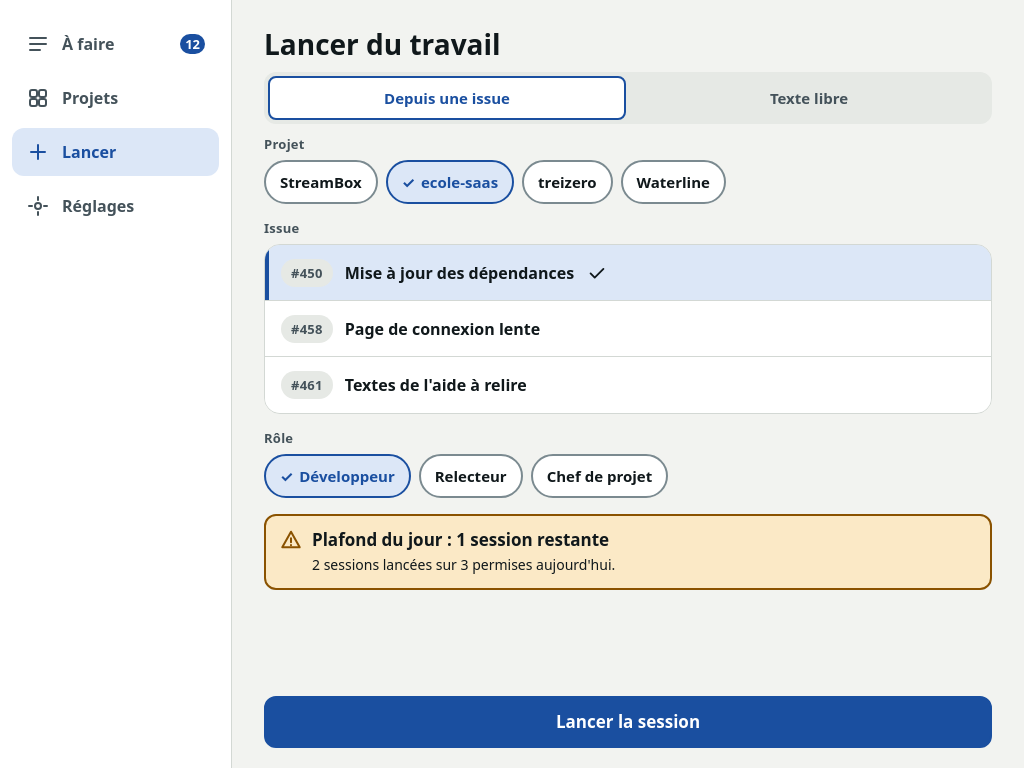
Test: Lancer du travail › projet sans issue en file : invite à passer en texte libre
The width and height of the screenshot is (1024, 768).
Click the button "StreamBox" at (321, 182), box [264, 160, 378, 204]
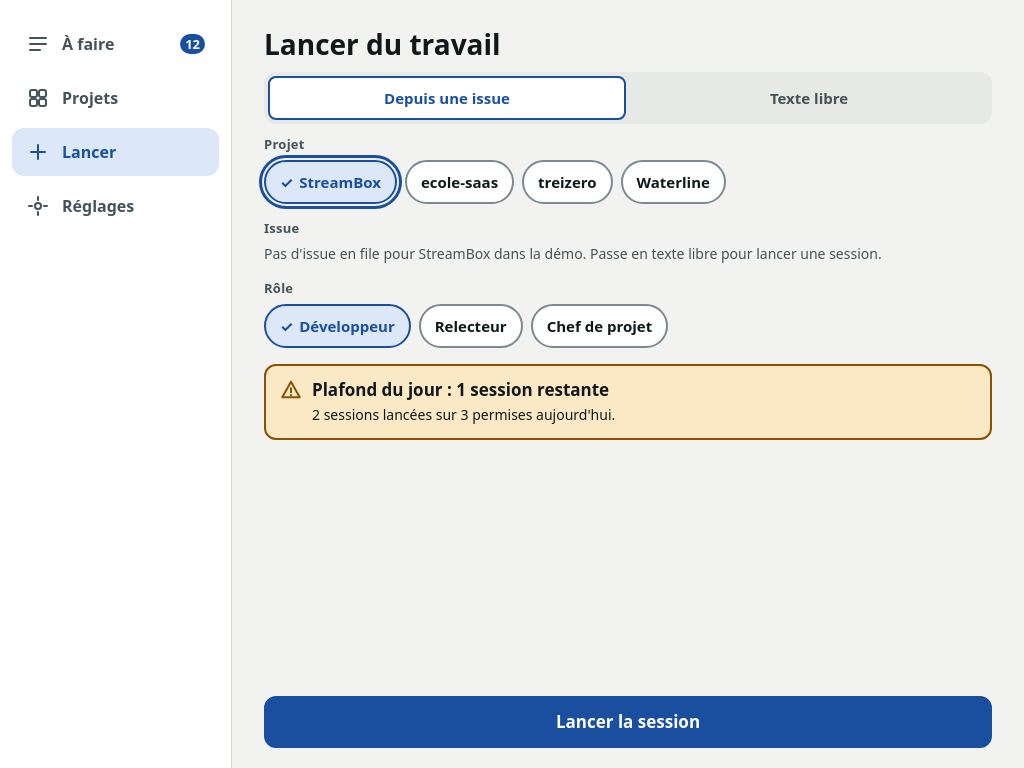
Check: the text "Pas d'issue en file pour StreamBox" is shown, box [264, 244, 882, 263]
Click the button "Lancer la session" at (628, 722), box [264, 696, 992, 748]
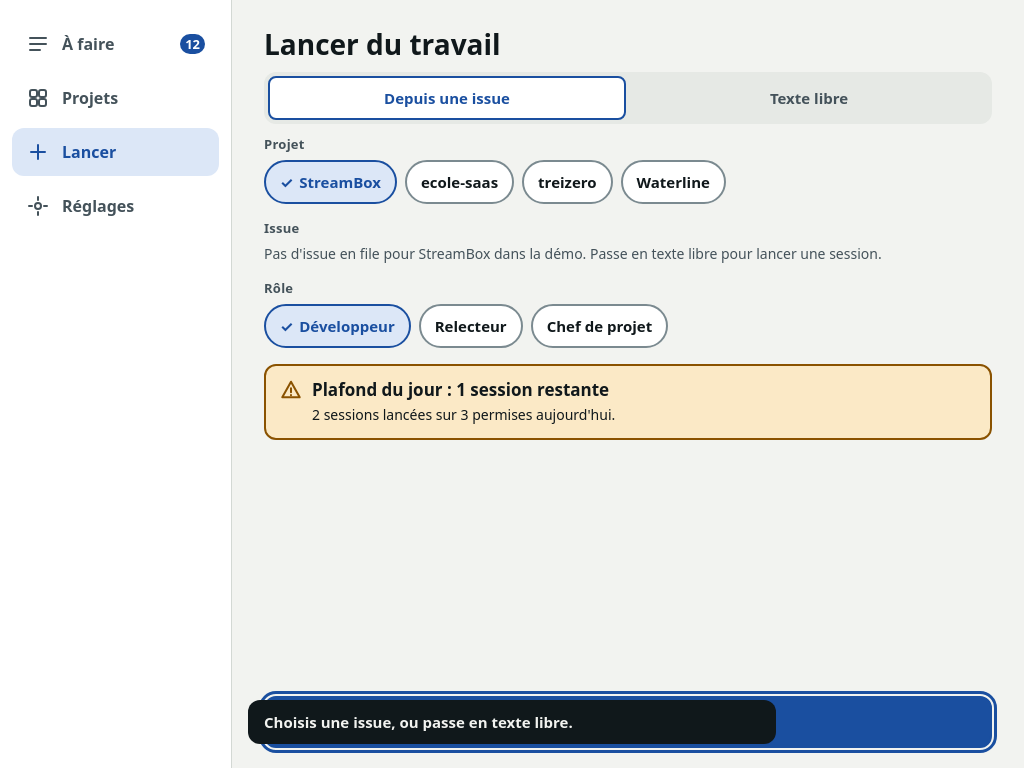
Check: the text "Choisis une issue, ou passe en texte libre." is shown, box [264, 712, 573, 732]
